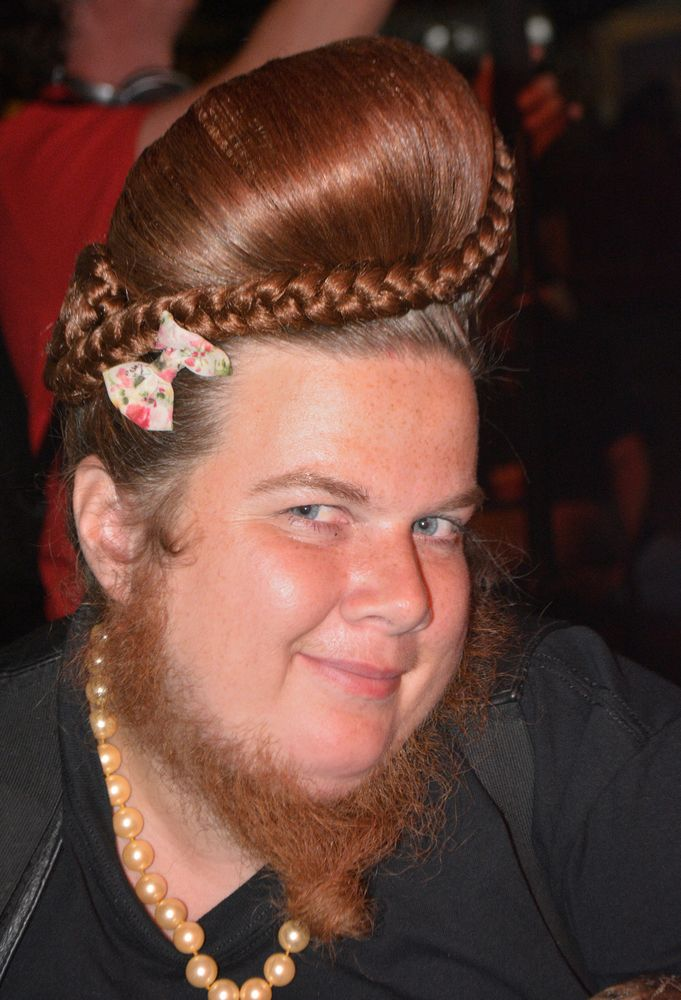without_mask: (263, 444, 470, 775)
